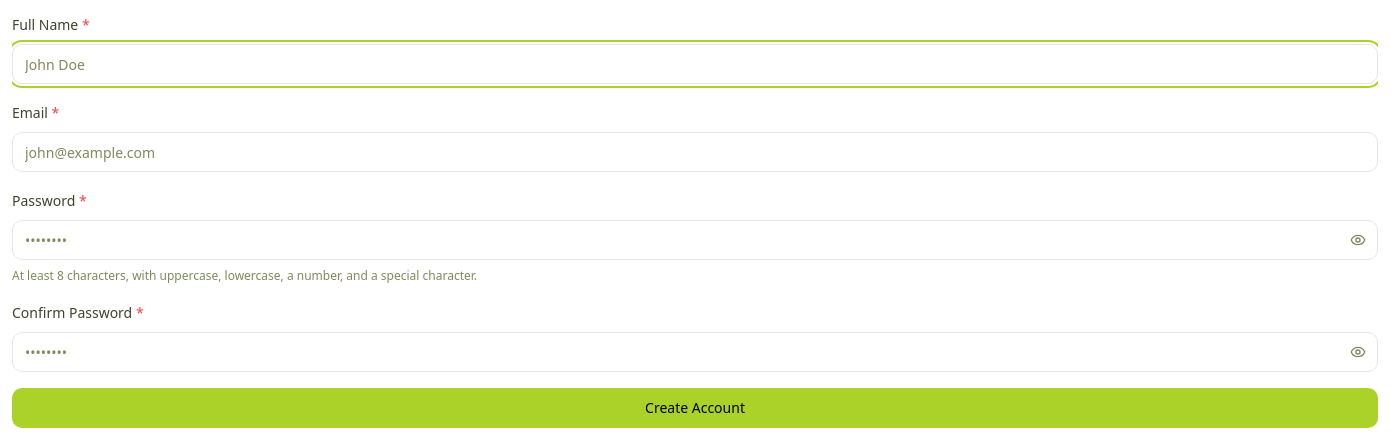
Test case: RegisterForm › strips spaces as they're typed into the email and password fields
Type "john doe@example.com" into the field labelled "Email *". click: {"x": 695, "y": 152}
box: [12, 132, 1378, 172]
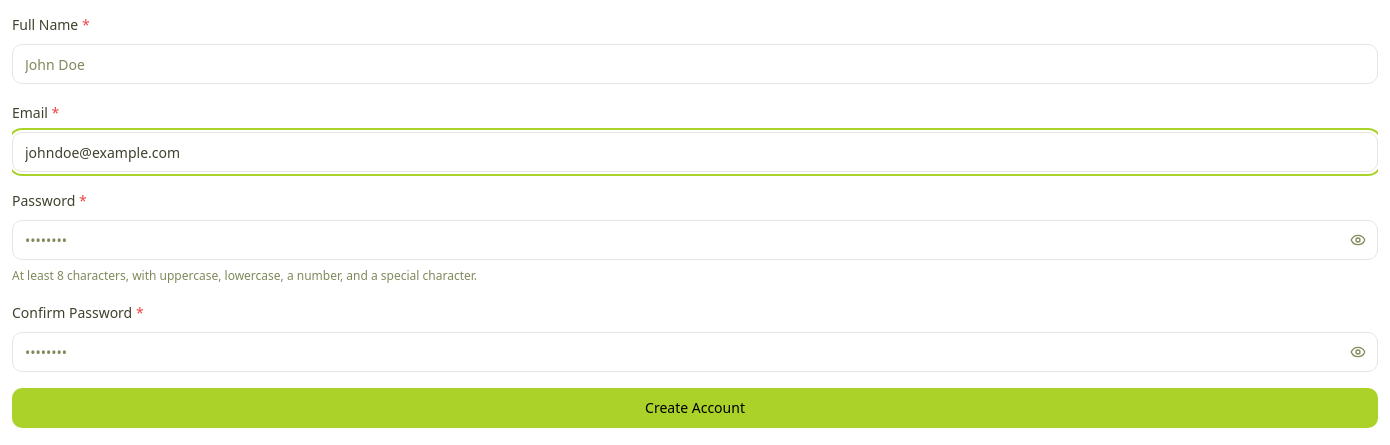
Type "Str0ng !Pass" into the password field labelled "Password *". click: {"x": 695, "y": 240}
box: [12, 220, 1378, 260]
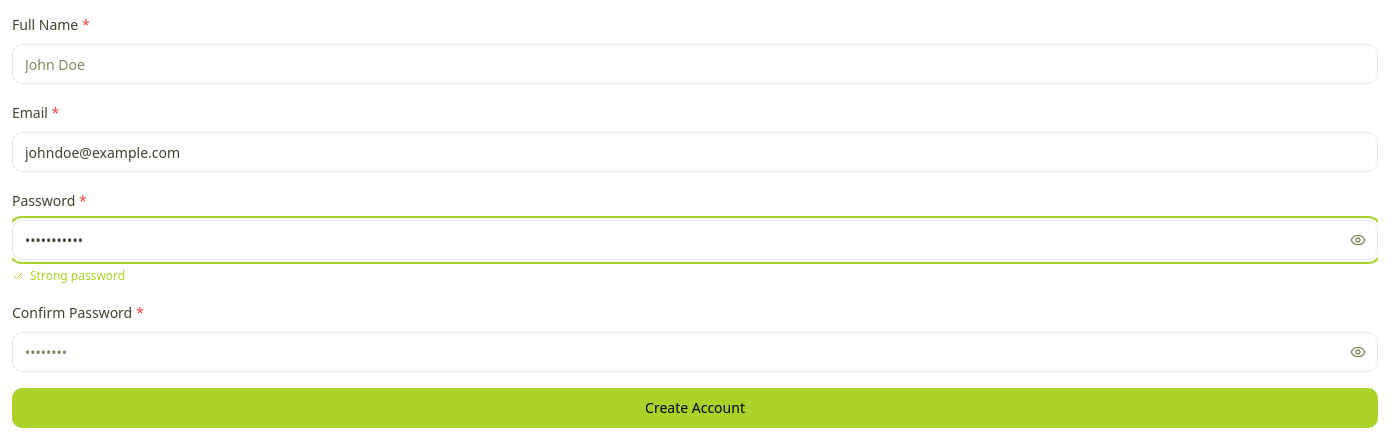
Expected: the field labelled "Email *" holds "johndoe@example.com", [12, 132, 1378, 172]
Expected: the password field labelled "Password *" holds "Str0ng!Pass", [12, 220, 1378, 260]
